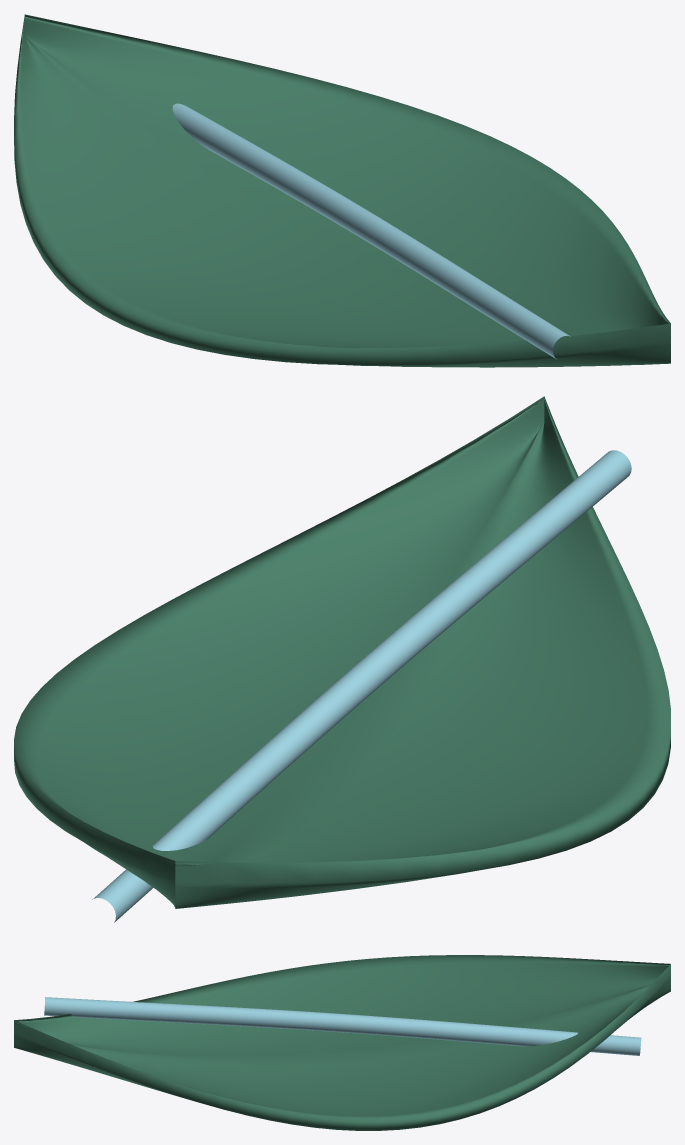
The picture shows the model from 3 angles, top to bottom: view 1: azimuth 30°, elevation 25°; view 2: azimuth 150°, elevation 25°; view 3: azimuth 270°, elevation 25°; orthographic projection. The views are drawn at different scales.
Parts seen in each view (by area): view 1: floating-leaf, leaf-midvein; view 2: floating-leaf, leaf-midvein; view 3: floating-leaf, leaf-midvein.
Boxes of the visible parts, x1=… form: floating-leaf: x1=14, y1=14, x2=670, y2=367; leaf-midvein: x1=172, y1=103, x2=570, y2=359; floating-leaf: x1=14, y1=396, x2=670, y2=908; leaf-midvein: x1=92, y1=450, x2=631, y2=922; floating-leaf: x1=14, y1=955, x2=670, y2=1130; leaf-midvein: x1=44, y1=997, x2=641, y2=1055.
Size of the model in its own units: 1.01 by 0.2319 by 1.76.
